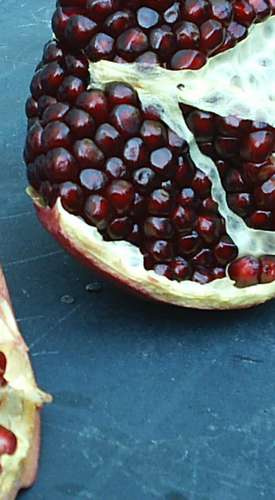pomogranate: (22, 2, 273, 307)
